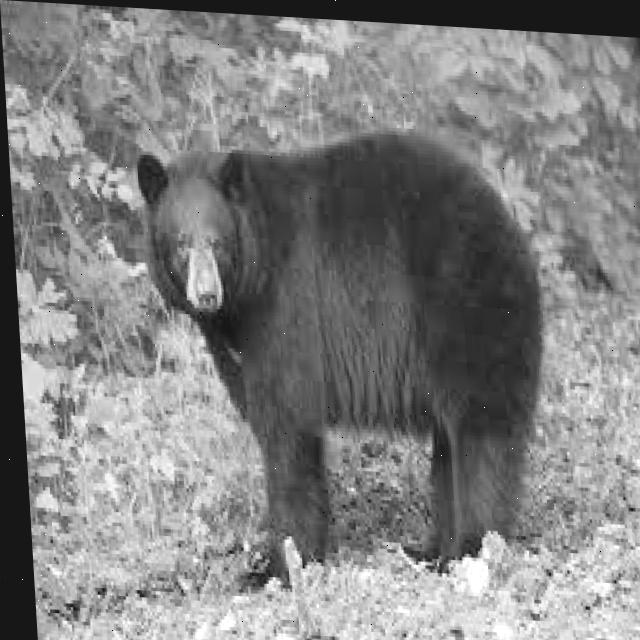Bear: (123, 139, 576, 548)
